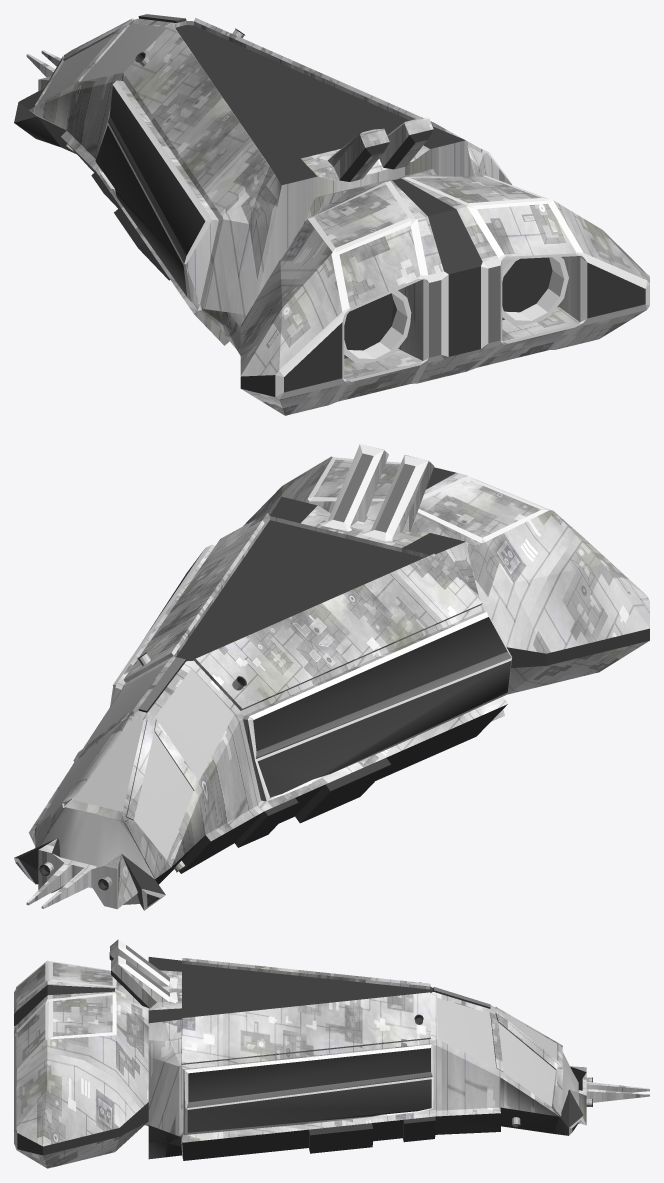
The model's file is lunarshuttle_poly.dae.
3 views of the same model, one above another, from view 1: azimuth 30°, elevation 25°; view 2: azimuth 150°, elevation 25°; view 3: azimuth 270°, elevation 25° (orthographic). The views are drawn at different scales.
Parts seen in each view (by area): view 1: Cube, pattern, Cylinder2, Cylinder1; view 2: Cube, pattern, Cylinder; view 3: Cube, pattern.
Boxes of the visible parts, box(x1,y1,x2,y2) form: Cube: box(14, 18, 649, 415); pattern: box(95, 14, 645, 396); Cylinder2: box(502, 257, 568, 325); Cylinder1: box(344, 290, 411, 363); Cube: box(14, 444, 649, 910); pattern: box(138, 453, 649, 904); Cylinder: box(39, 652, 246, 890); Cube: box(14, 939, 649, 1168); pattern: box(14, 945, 573, 1155).
Size of the model in its own units: 10.4 by 6.28 by 18.91.
